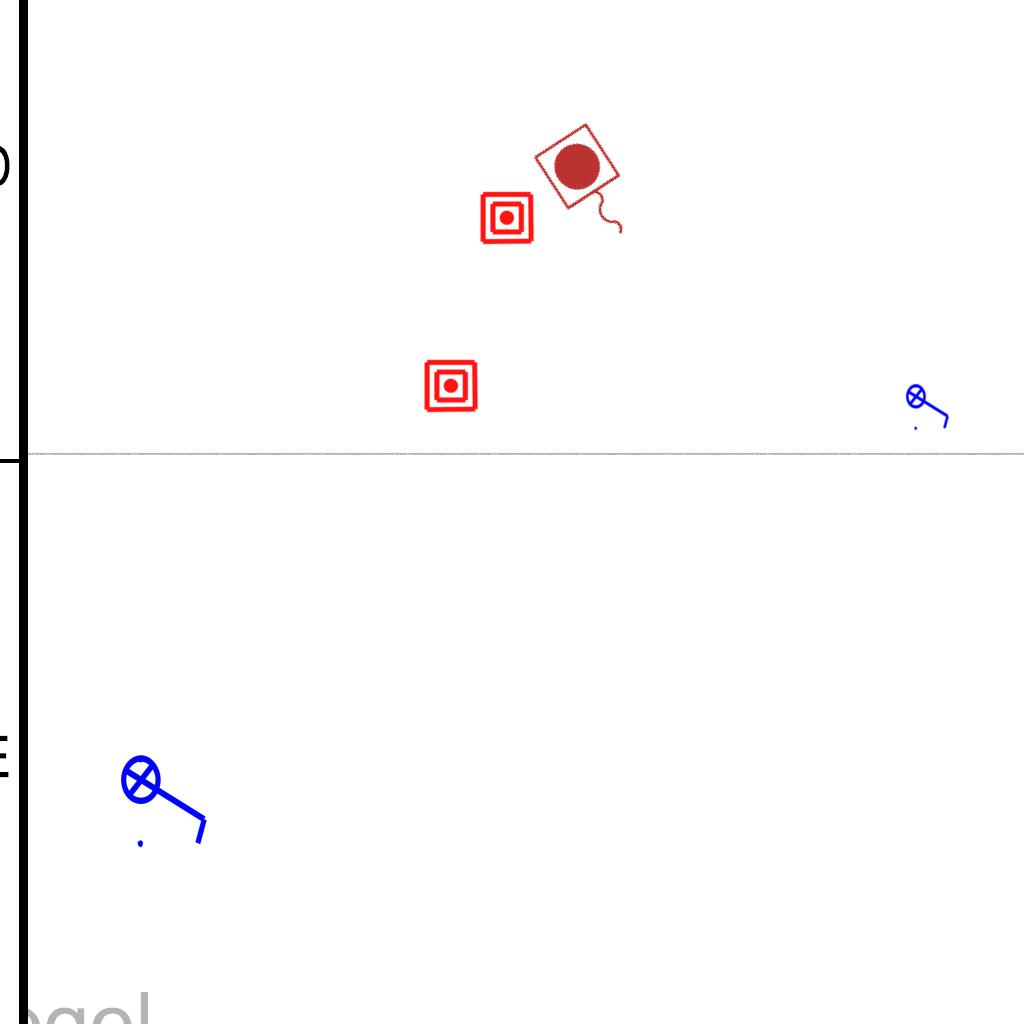Ausschalter_beleuchtet: (119, 741, 215, 853), (905, 377, 953, 433)
NAM-Nichtautomatischer_Melder: (479, 190, 535, 246), (423, 358, 479, 414)
Zugtaster: (526, 117, 654, 259)
